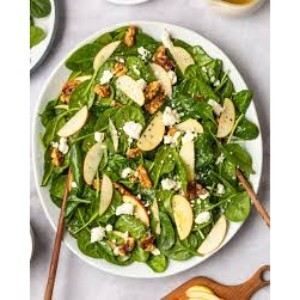spinach_brain food: (52, 64, 230, 236)
